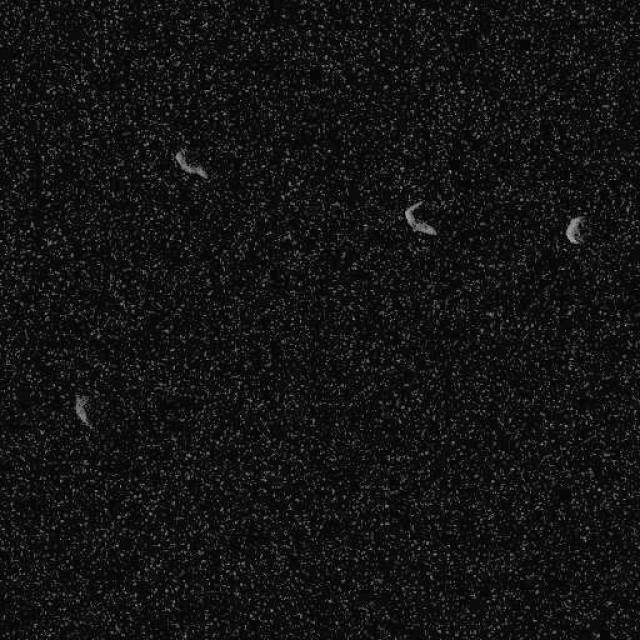D2: (402, 199, 438, 236), (171, 146, 209, 180), (72, 392, 91, 428), (564, 215, 585, 245)
